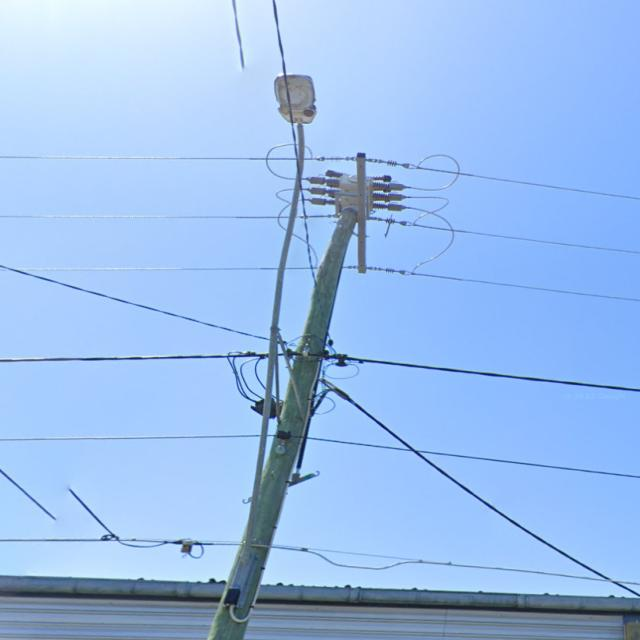HV-switch: (307, 169, 410, 216)
HV-transmission: (298, 155, 426, 276)
crossarm: (356, 152, 368, 275)
streetlight: (249, 73, 318, 510)
timber-pole: (206, 206, 358, 640)
